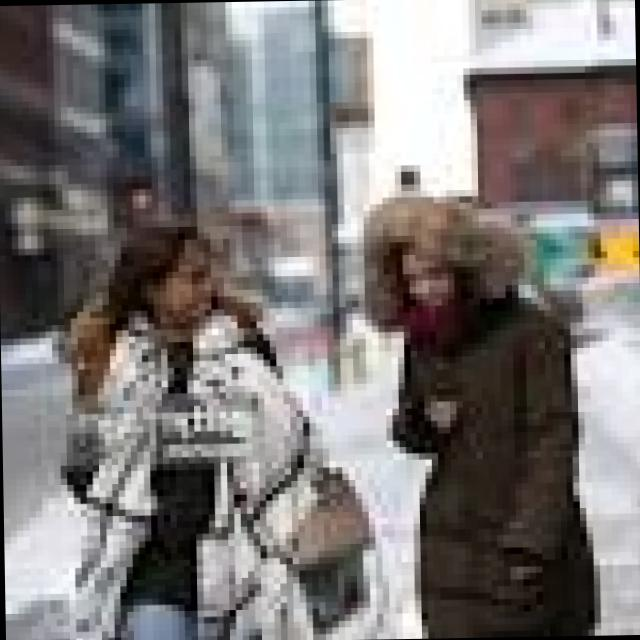Jacket: (47, 297, 324, 640), (390, 303, 612, 639)
